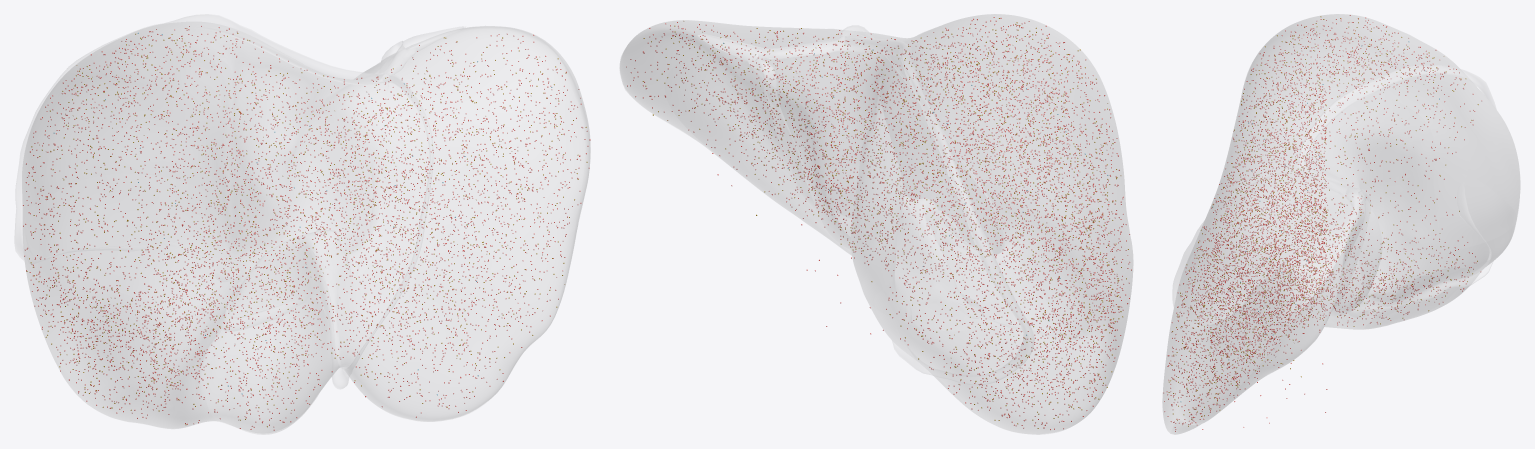
The model's file is 3d-vh-f-liver-UBERON_0002107-all-as-popv-sphere-hra-pop.glb.
The picture shows the model from 3 angles, left to right: view 1: azimuth 30°, elevation 25°; view 2: azimuth 150°, elevation 25°; view 3: azimuth 270°, elevation 25°; orthographic projection. The views are drawn at different scales.
Visible parts, largest first — view 1: VH_F_capsule_of_the_liver, VH_F_left_anterolateral_segment, VH_F_left_superomedial_segment, VH_F_right_anteroinferior_segment, VH_F_right_posterosuperior_segment, VH_F_coronary_ligament_of_liver, VH_F_falciform_ligament, VH_F_right_posteroinferior_segment; view 2: VH_F_capsule_of_the_liver, VH_F_left_superomedial_segment, VH_F_bare_area_of_liver, VH_F_right_anterosuperior_segment, VH_F_coronary_ligament_of_liver, VH_F_right_anteroinferior_segment, VH_F_right_posteroinferior_segment, VH_F_ligamentum_venosum, VH_F_right_posterosuperior_segment, VH_F_triangular_ligament_of_liver; view 3: VH_F_capsule_of_the_liver, VH_F_right_posterosuperior_segment, VH_F_right_anterosuperior_segment, VH_F_bare_area_of_liver, VH_F_left_anterolateral_segment, VH_F_coronary_ligament_of_liver, VH_F_right_posteroinferior_segment, VH_F_left_superomedial_segment, VH_F_falciform_ligament, VH_F_caudate_lobe, VH_F_ligamentum_venosum, VH_F_left_superomedial_segment1.
Part boxes in pixels (x1,y1,x2,y2): VH_F_capsule_of_the_liver: (22,22,589,434); VH_F_left_anterolateral_segment: (346,228,576,420); VH_F_left_superomedial_segment: (389,27,589,224); VH_F_right_anteroinferior_segment: (72,304,223,427); VH_F_right_posterosuperior_segment: (22,28,147,220); VH_F_coronary_ligament_of_liver: (15,14,409,259); VH_F_falciform_ligament: (348,74,432,372); VH_F_right_posteroinferior_segment: (23,234,56,363); VH_F_capsule_of_the_liver: (620,14,1132,434); VH_F_left_superomedial_segment: (621,21,841,141); VH_F_bare_area_of_liver: (850,91,903,349); VH_F_right_anterosuperior_segment: (957,14,1129,235); VH_F_coronary_ligament_of_liver: (769,36,1034,384); VH_F_right_anteroinferior_segment: (1062,251,1132,429); VH_F_right_posteroinferior_segment: (869,303,1042,433); VH_F_ligamentum_venosum: (751,56,816,212); VH_F_right_posterosuperior_segment: (851,169,866,284); VH_F_triangular_ligament_of_liver: (698,34,767,63); VH_F_capsule_of_the_liver: (1163,14,1458,434); VH_F_right_posterosuperior_segment: (1393,29,1519,213); VH_F_right_anterosuperior_segment: (1249,14,1392,109); VH_F_bare_area_of_liver: (1347,92,1519,264); VH_F_left_anterolateral_segment: (1163,303,1251,433); VH_F_coronary_ligament_of_liver: (1299,65,1495,311); VH_F_right_posteroinferior_segment: (1422,225,1514,314); VH_F_left_superomedial_segment: (1258,204,1364,379); VH_F_falciform_ligament: (1173,163,1298,305); VH_F_caudate_lobe: (1339,207,1381,305); VH_F_ligamentum_venosum: (1333,189,1370,308); VH_F_left_superomedial_segment1: (1207,111,1238,215).
Bounding box in the file's own units: 0.2471 × 0.17 × 0.1663.
